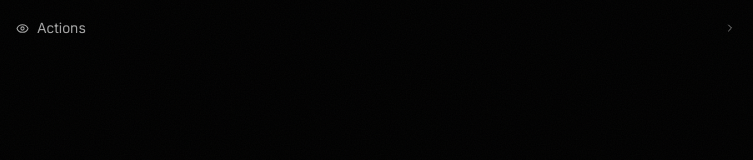
it: MessagesTimeline › collapses two consecutive traces into exactly one summary button
Click the button "Actions": (61, 28) [16, 16, 736, 40]
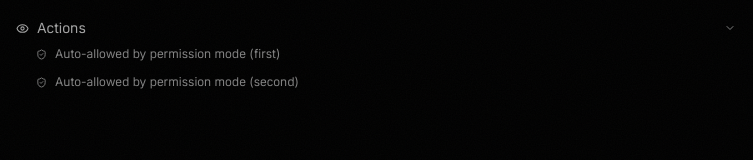
Result: the button "Actions" is expanded at [16, 16, 736, 40]
Result: the text "Auto-allowed by permission mode (first)" is shown at [55, 46, 280, 62]
Result: the text "Auto-allowed by permission mode (second)" is shown at [55, 74, 299, 90]
